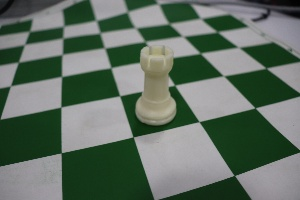white_rook: (126, 35, 186, 139)
